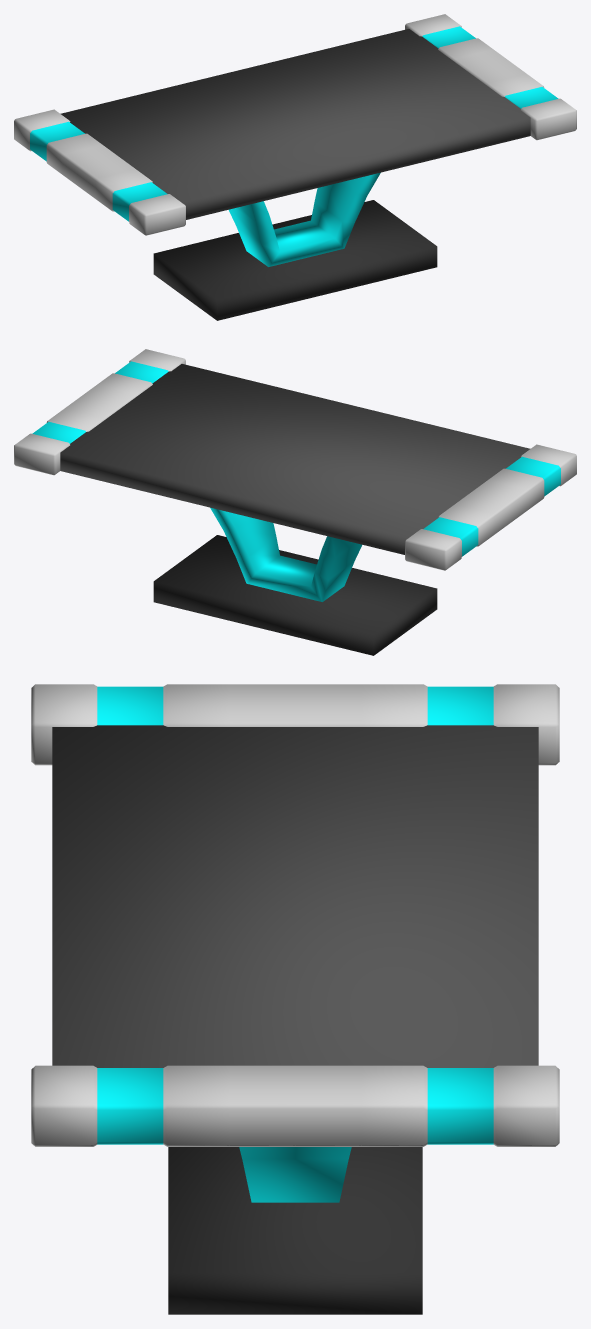
The model's file is Table.fbx.
The picture shows the model from 3 angles, top to bottom: view 1: azimuth 30°, elevation 25°; view 2: azimuth 150°, elevation 25°; view 3: azimuth 270°, elevation 25°; orthographic projection. The views are drawn at different scales.
Visible parts, largest first — view 1: Cube.002; view 2: Cube.002; view 3: Cube.002.
Part boxes in pixels (x1,y1,x2,y2): Cube.002: (14,14,576,320); Cube.002: (14,349,576,655); Cube.002: (31,684,559,1314).
Size of the model in its own units: 123 by 65.18 by 42.72.
